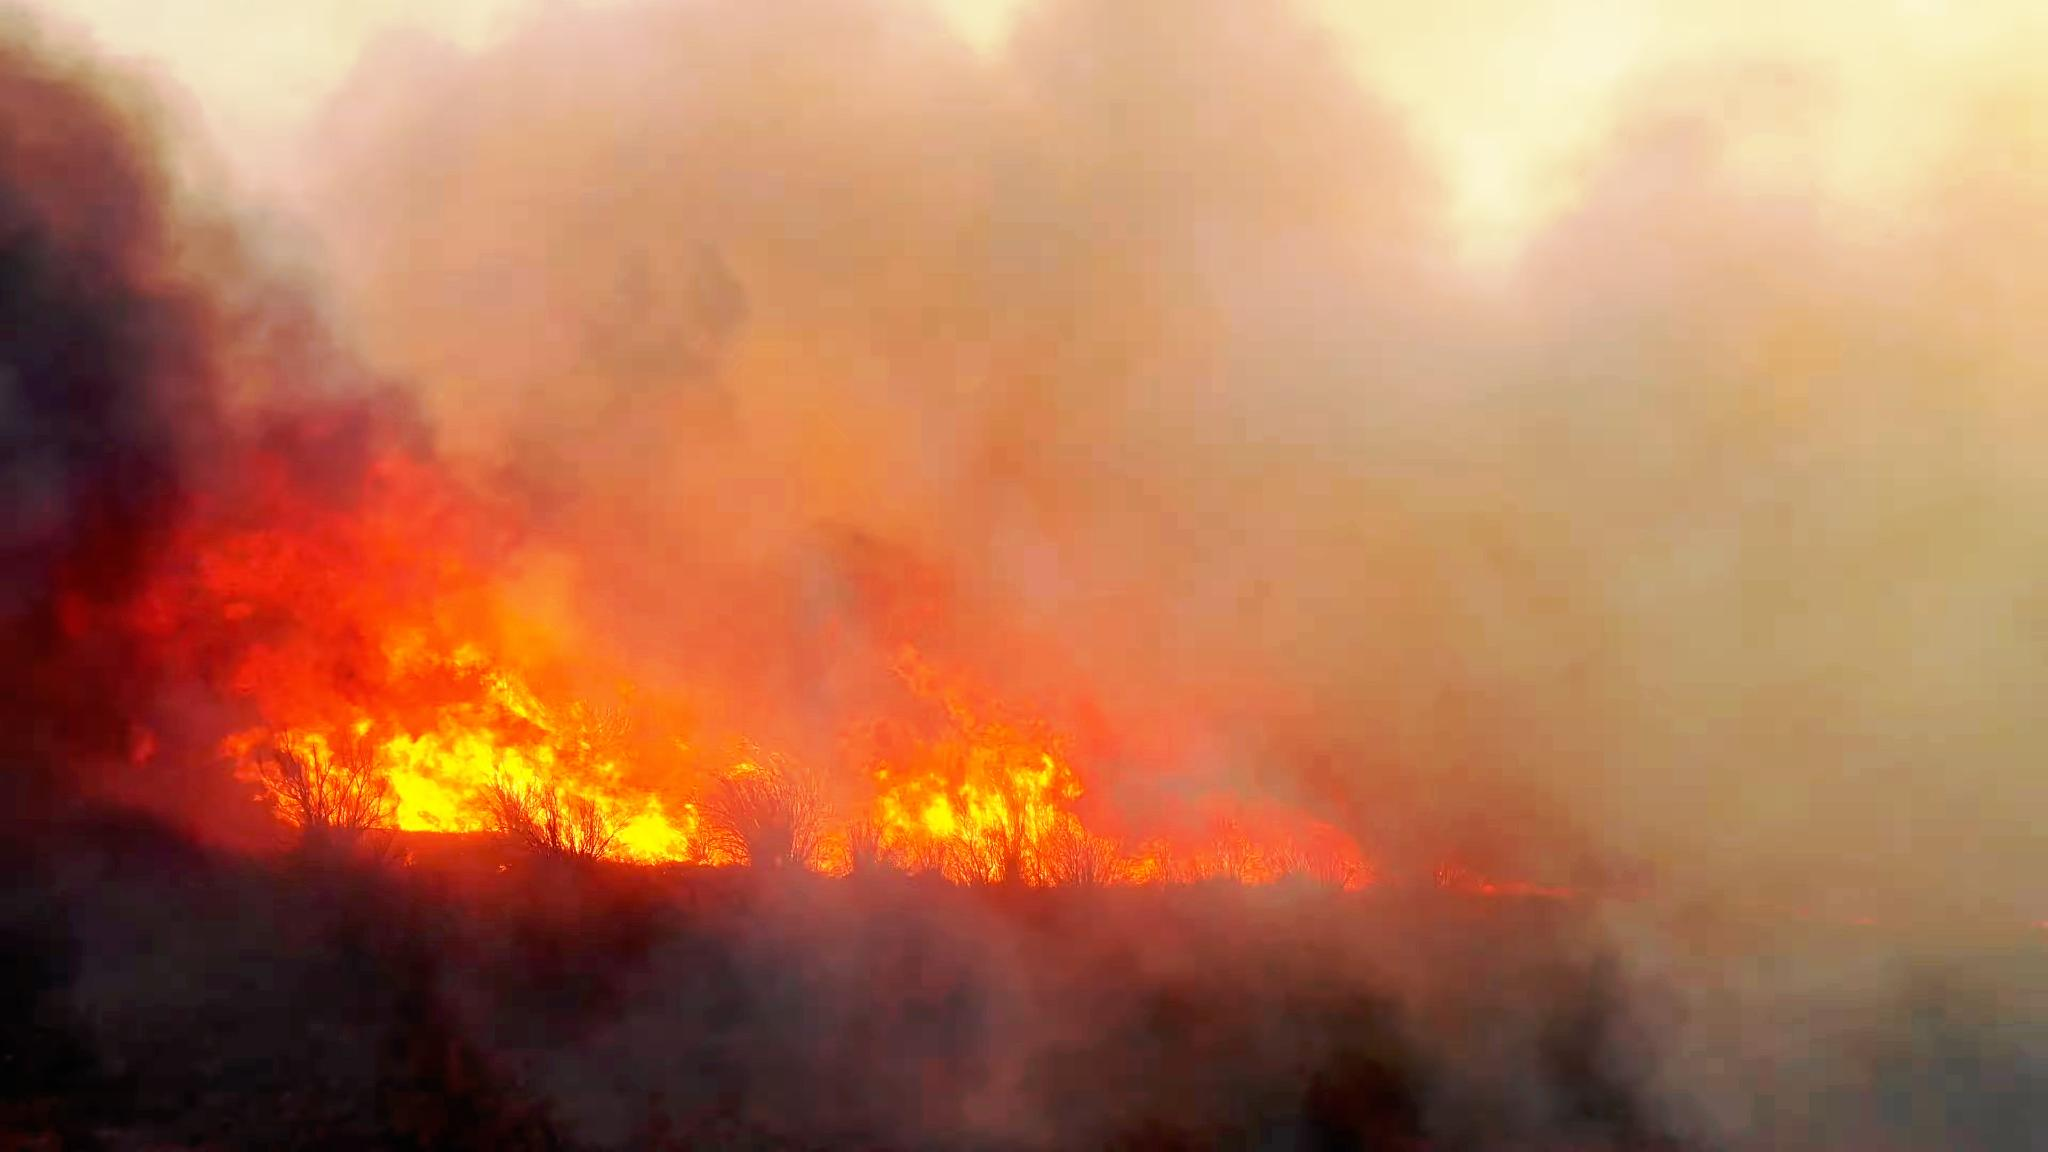fire: (342, 686, 612, 858), (859, 726, 1061, 875)
smoke: (475, 41, 1964, 587), (0, 37, 405, 477)
